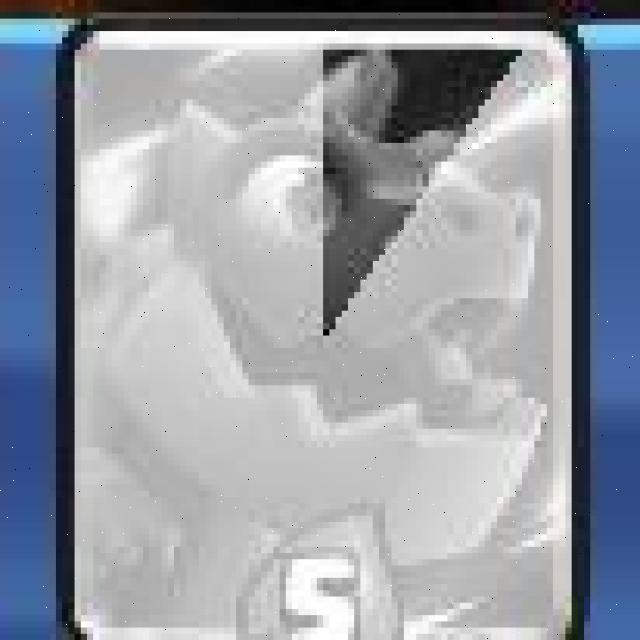Electro_Dragon: (56, 15, 592, 640)
